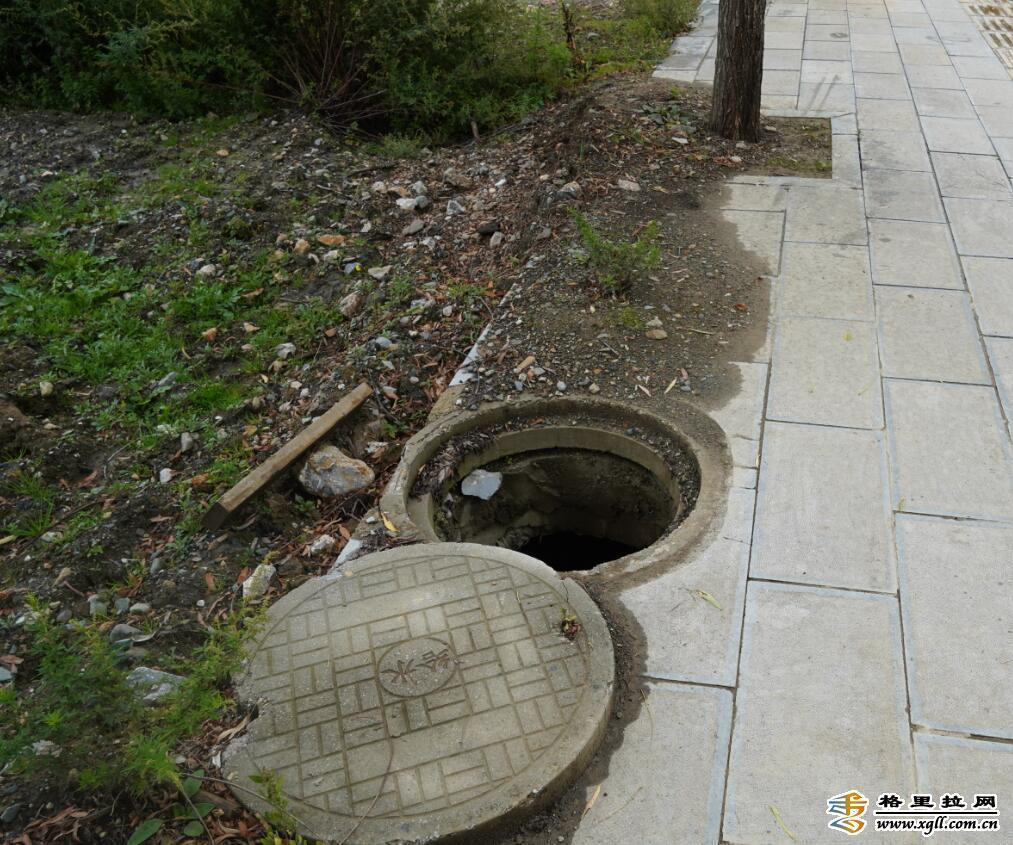wellcover: (194, 352, 778, 845)
